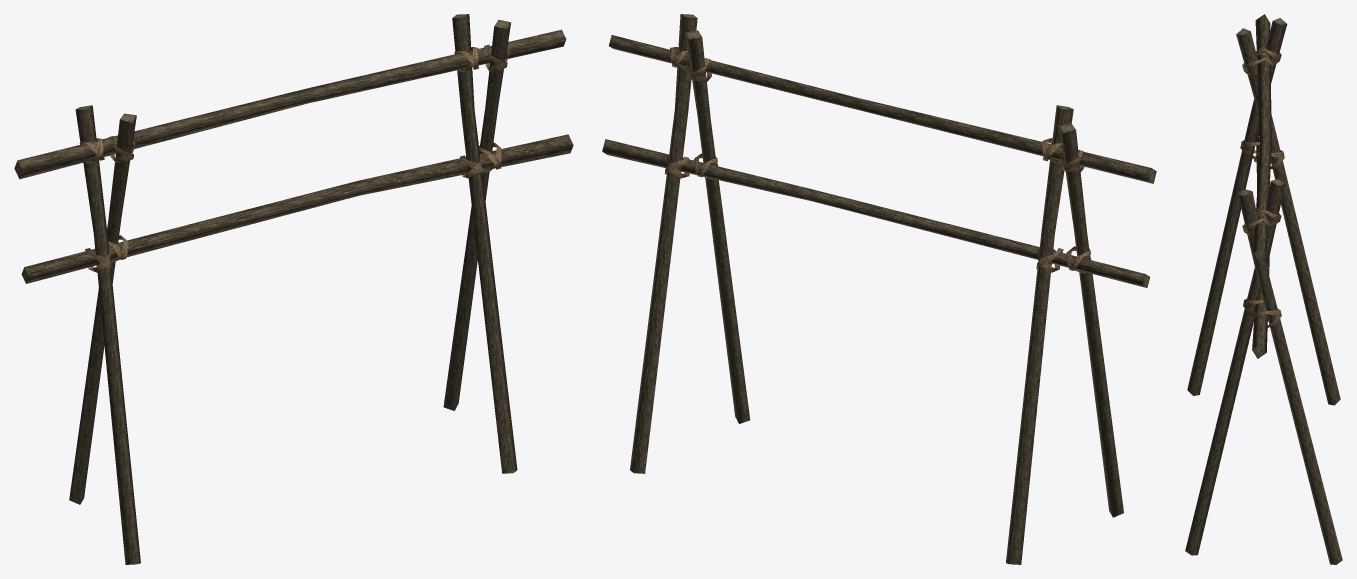
File: thm_dant_fence_4m_l2.fbx
3 renders of one model, left to right at view 1: azimuth 30°, elevation 25°; view 2: azimuth 150°, elevation 25°; view 3: azimuth 270°, elevation 25°, orthographic. The views are drawn at different scales.
Visible parts, largest first — view 1: mesh_node; view 2: mesh_node; view 3: mesh_node.
Part boxes in pixels (x1,y1,x2,y2): mesh_node: [14, 14, 573, 564]; mesh_node: [602, 14, 1156, 564]; mesh_node: [1185, 14, 1342, 564].
Bounding box in the file's own units: 3.97 × 2.95 × 1.12.
